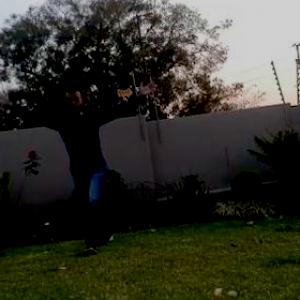takeoff: (20, 80, 172, 255)
